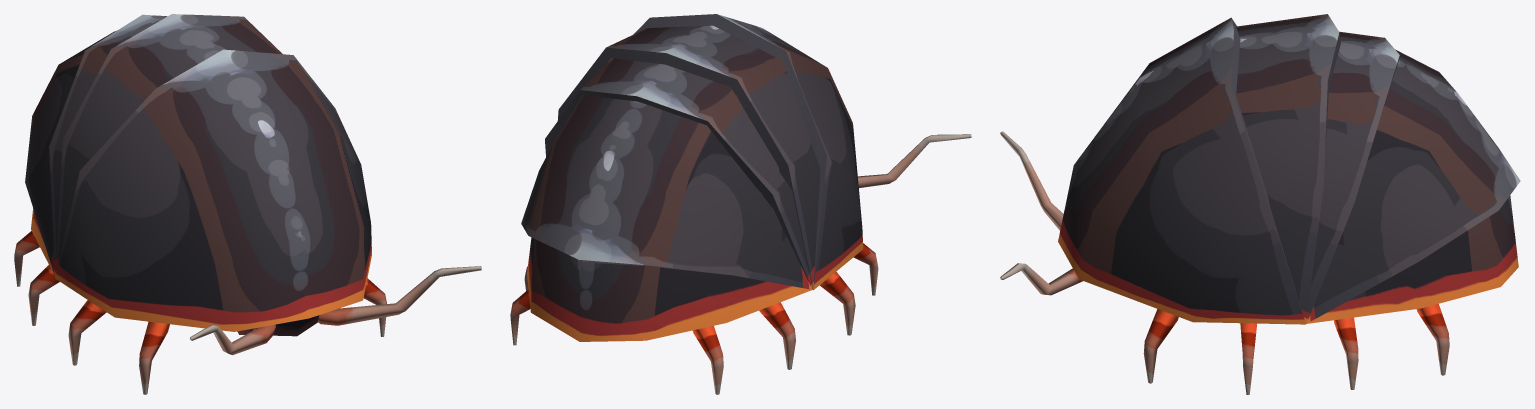
The model's file is pillBug_MESH.fbx.
The picture shows the model from 3 angles, left to right: view 1: azimuth 30°, elevation 25°; view 2: azimuth 150°, elevation 25°; view 3: azimuth 270°, elevation 25°; orthographic projection. The views are drawn at different scales.
Parts seen in each view (by area): view 1: pillbug_MESH; view 2: pillbug_MESH; view 3: pillbug_MESH.
Boxes of the visible parts, box(x1,y1,x2,y2) form: pillbug_MESH: box(14, 14, 481, 394); pillbug_MESH: box(510, 14, 971, 394); pillbug_MESH: box(1000, 14, 1520, 394).
Bounding box in the file's own units: 0.9666 × 0.9044 × 1.45.
